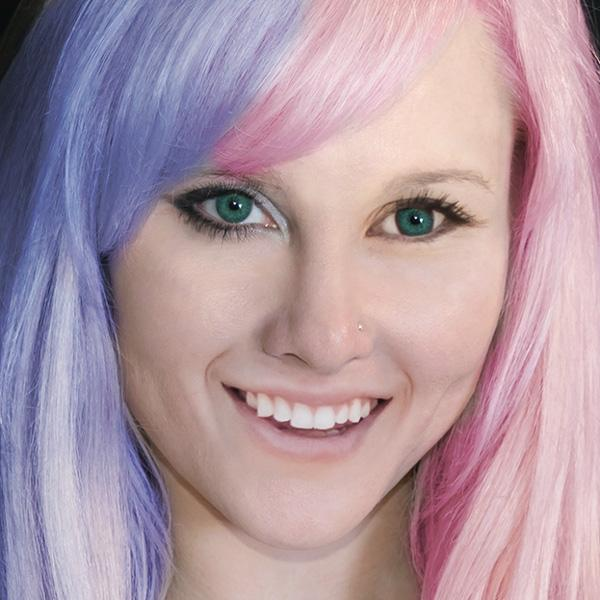Eyes: (161, 167, 295, 247), (356, 184, 474, 255)
